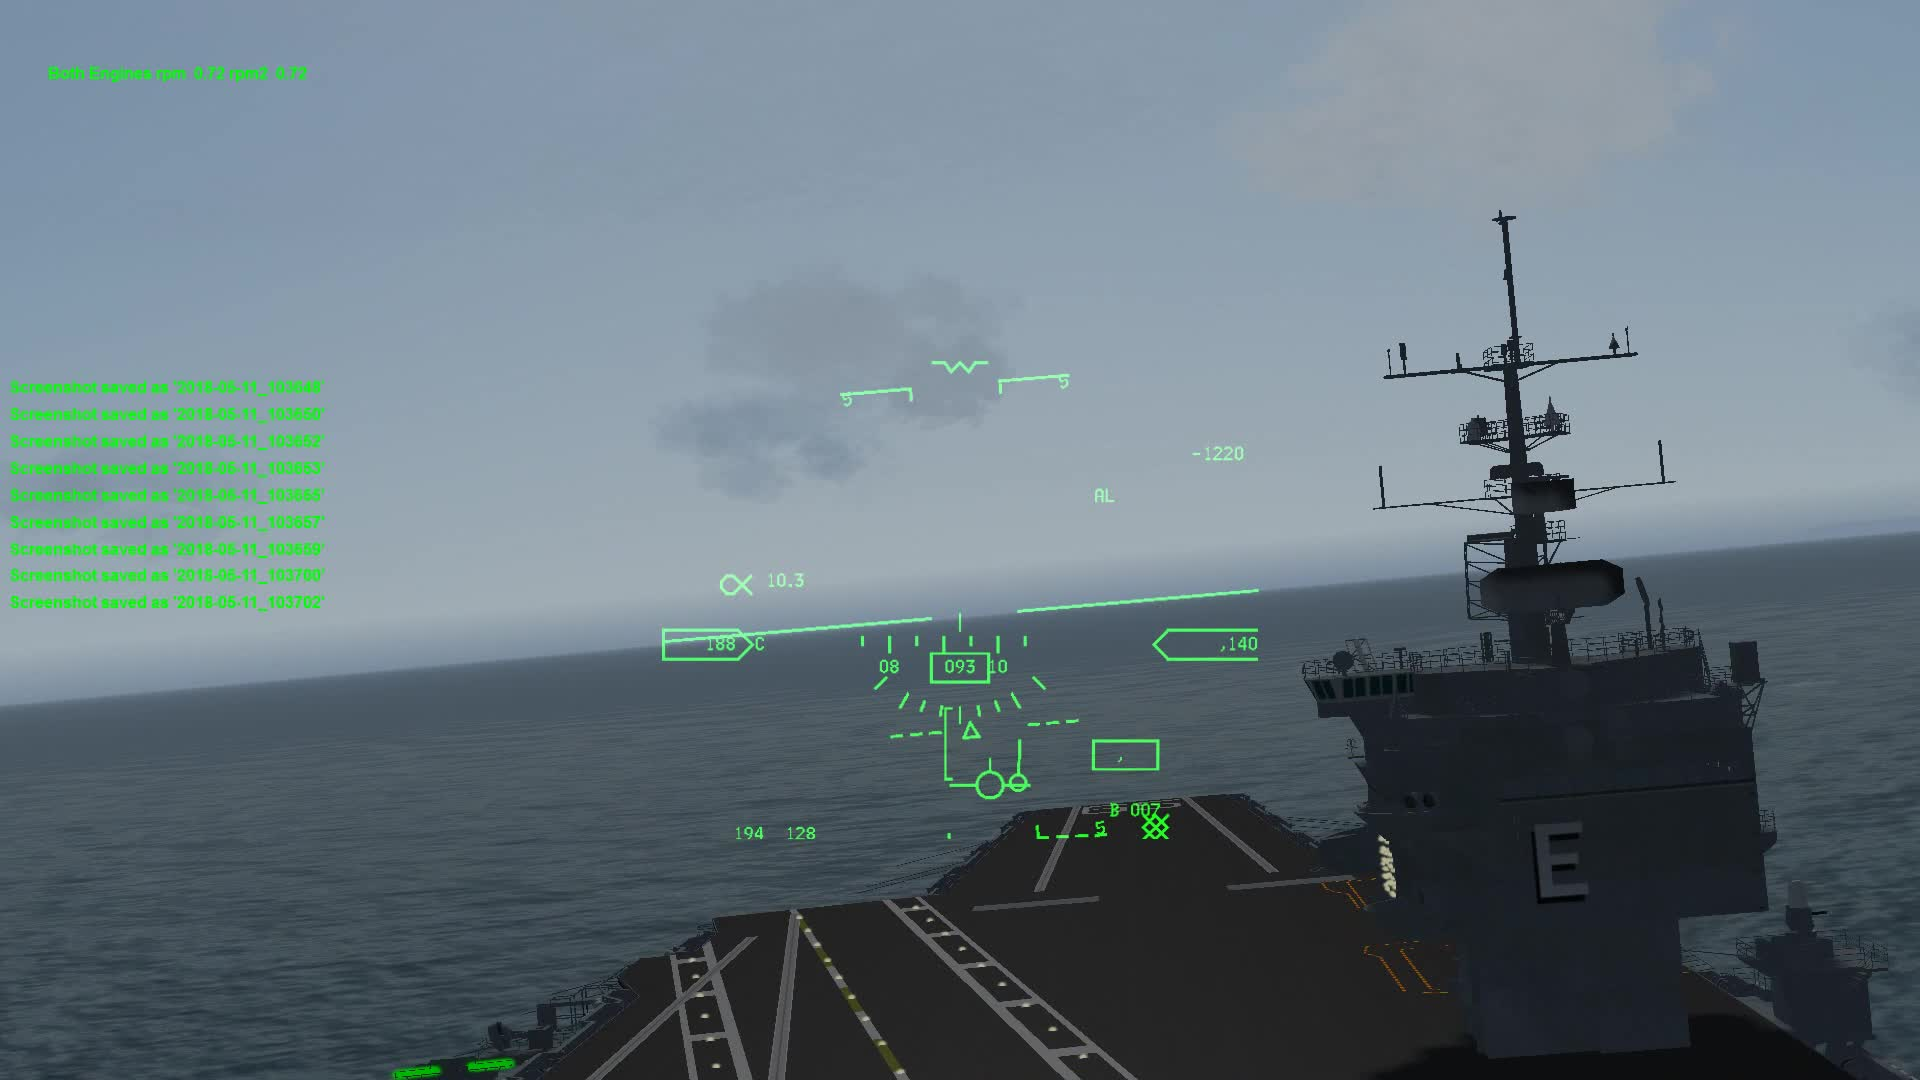speed vector: (955, 746, 1050, 804)
